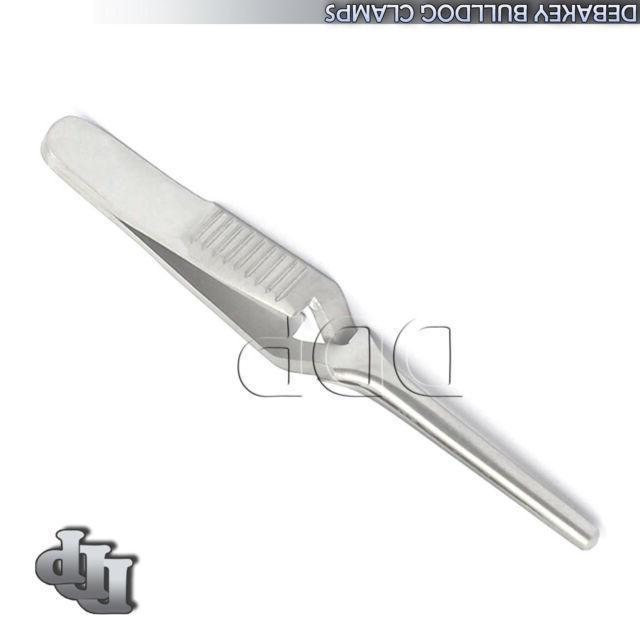Bulldog: (38, 110, 604, 557)
